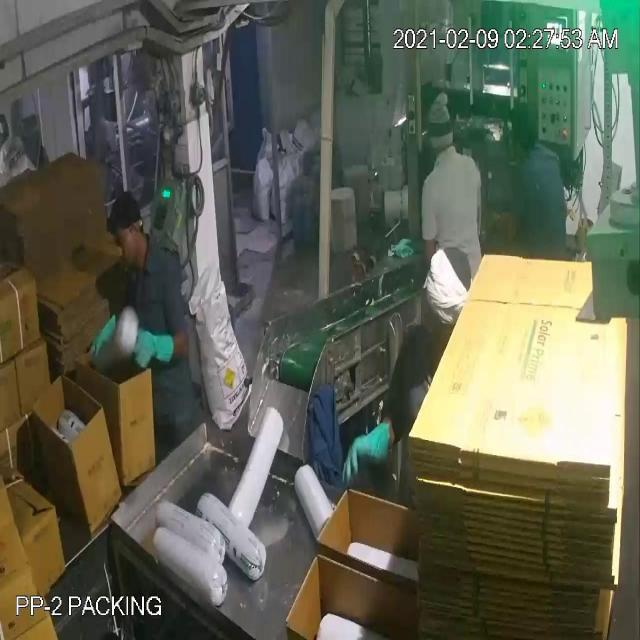Gloves: (34, 50, 367, 456)
